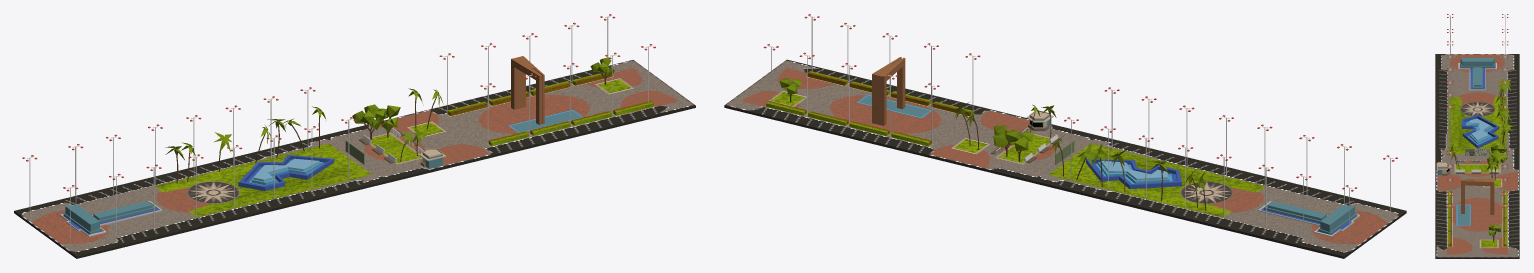
File: praça das aguas LOD0.fbx
3 renders of one model, left to right at view 1: azimuth 30°, elevation 25°; view 2: azimuth 150°, elevation 25°; view 3: azimuth 270°, elevation 25°, orthographic. The views are drawn at different scales.
Visible parts, largest first — view 1: Praça das Aguas LOD0; view 2: Praça das Aguas LOD0; view 3: Praça das Aguas LOD0.
Boxes of the visible parts, bbox=[...] form: Praça das Aguas LOD0: bbox=[14, 14, 695, 258]; Praça das Aguas LOD0: bbox=[724, 14, 1406, 258]; Praça das Aguas LOD0: bbox=[1435, 14, 1519, 258].
Size of the model in its own units: 5407 by 531 by 946.
Materials: 1 (1 with a texture image).
